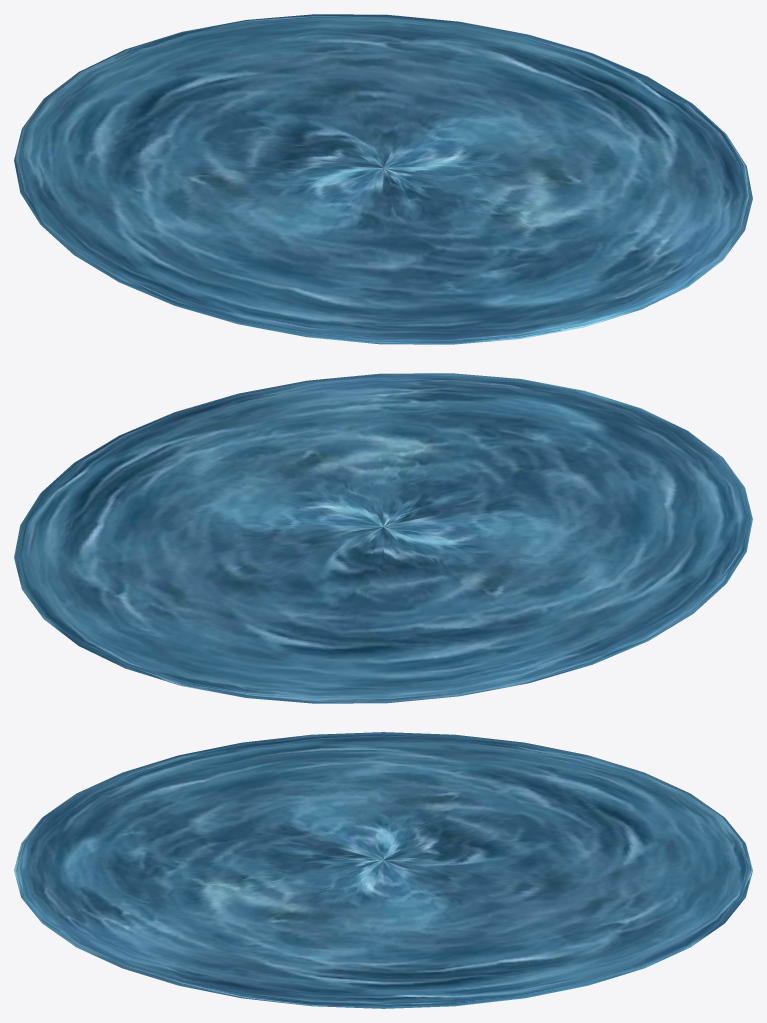
The model's file is alberca.fbx.
The picture shows the model from 3 angles, top to bottom: view 1: azimuth 30°, elevation 25°; view 2: azimuth 150°, elevation 25°; view 3: azimuth 270°, elevation 25°; orthographic projection. The views are drawn at different scales.
Parts seen in each view (by area): view 1: AlbercaJa; view 2: AlbercaJa; view 3: AlbercaJa.
Boxes of the visible parts, box(x1,y1,x2,y2) form: AlbercaJa: box(14, 14, 752, 344); AlbercaJa: box(14, 373, 752, 703); AlbercaJa: box(14, 732, 752, 1008).
Size of the model in its own units: 523 by 18.6 by 590.
